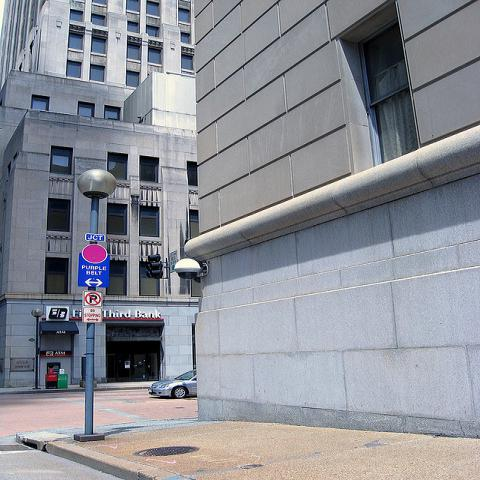car: (144, 369, 198, 398)
